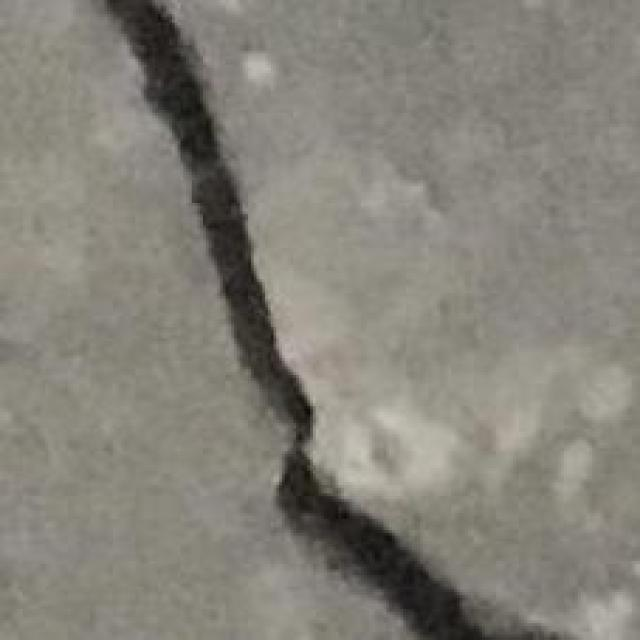Longitudinal: (104, 0, 535, 640)
